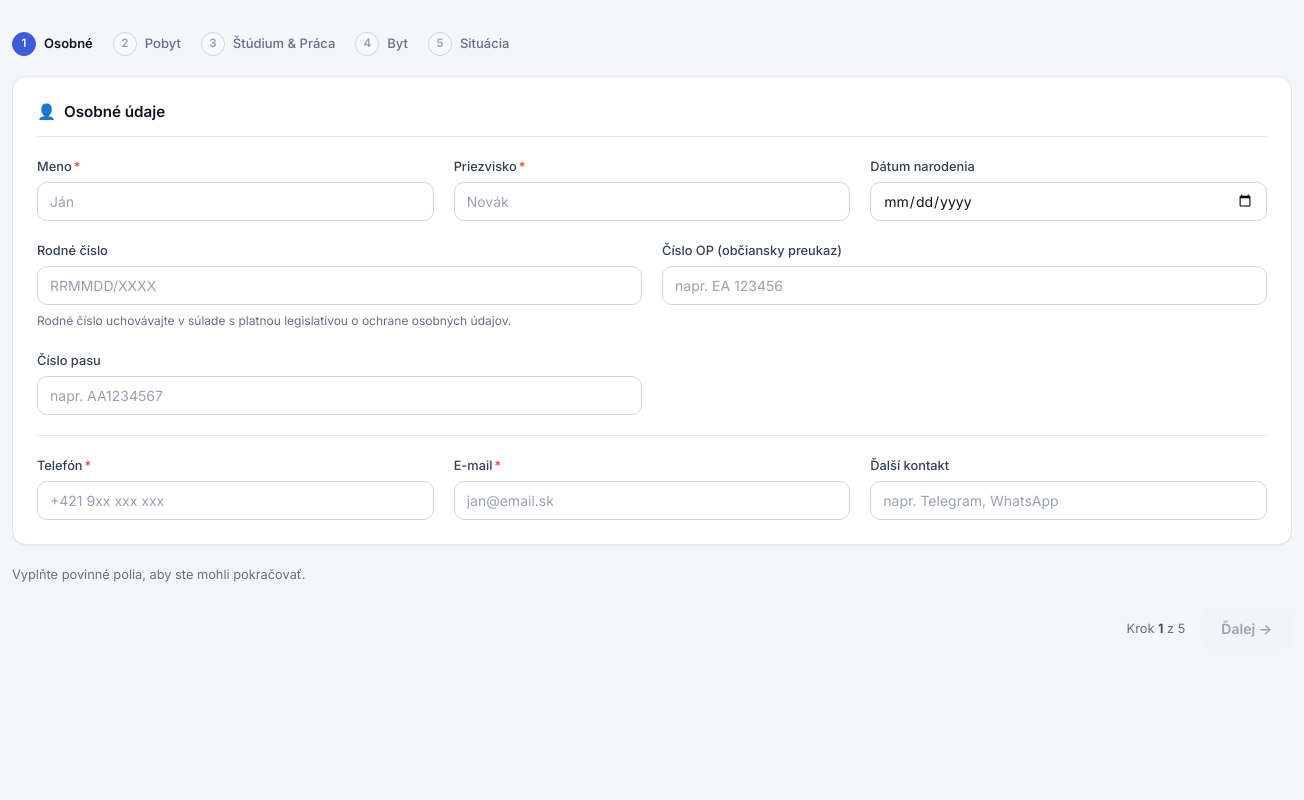
Test: TenantForm (Sprint 3.1–3.3) › enables Ďalej once step 1 validates
In the field labelled "Meno*": [235, 202] box [37, 182, 434, 221], type "Mária"
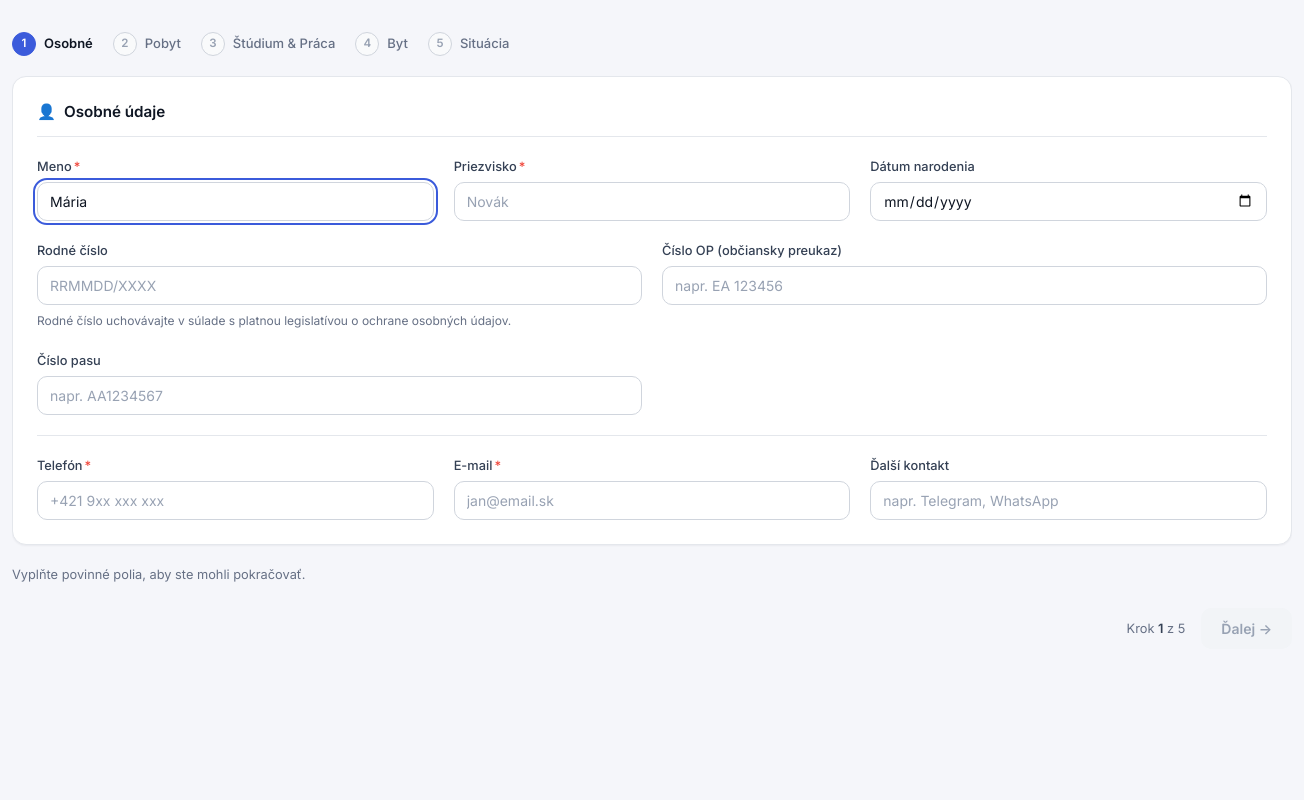
In the field labelled "Priezvisko*": [652, 202] box [454, 182, 850, 221], type "Kováčová"
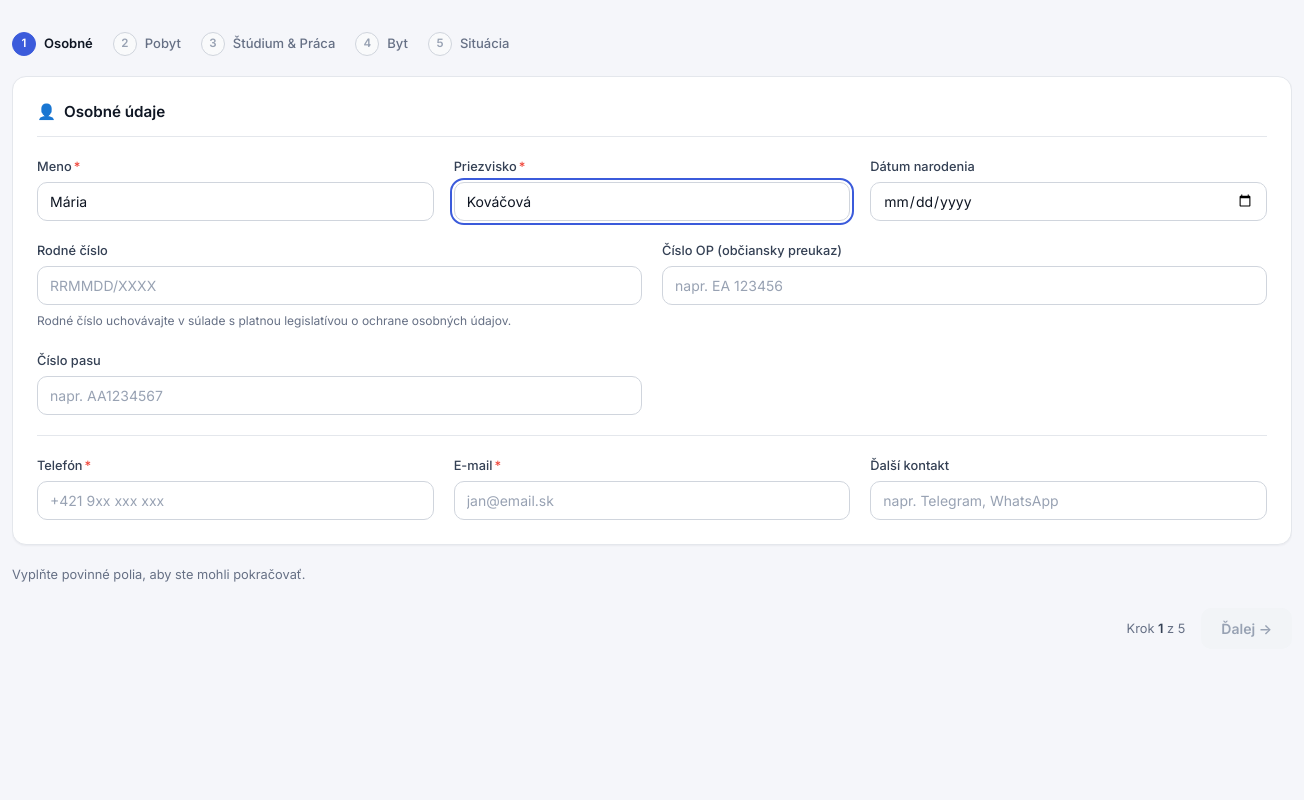
In the field labelled "Telefón*": [235, 500] box [37, 481, 434, 520], type "+421900111222"
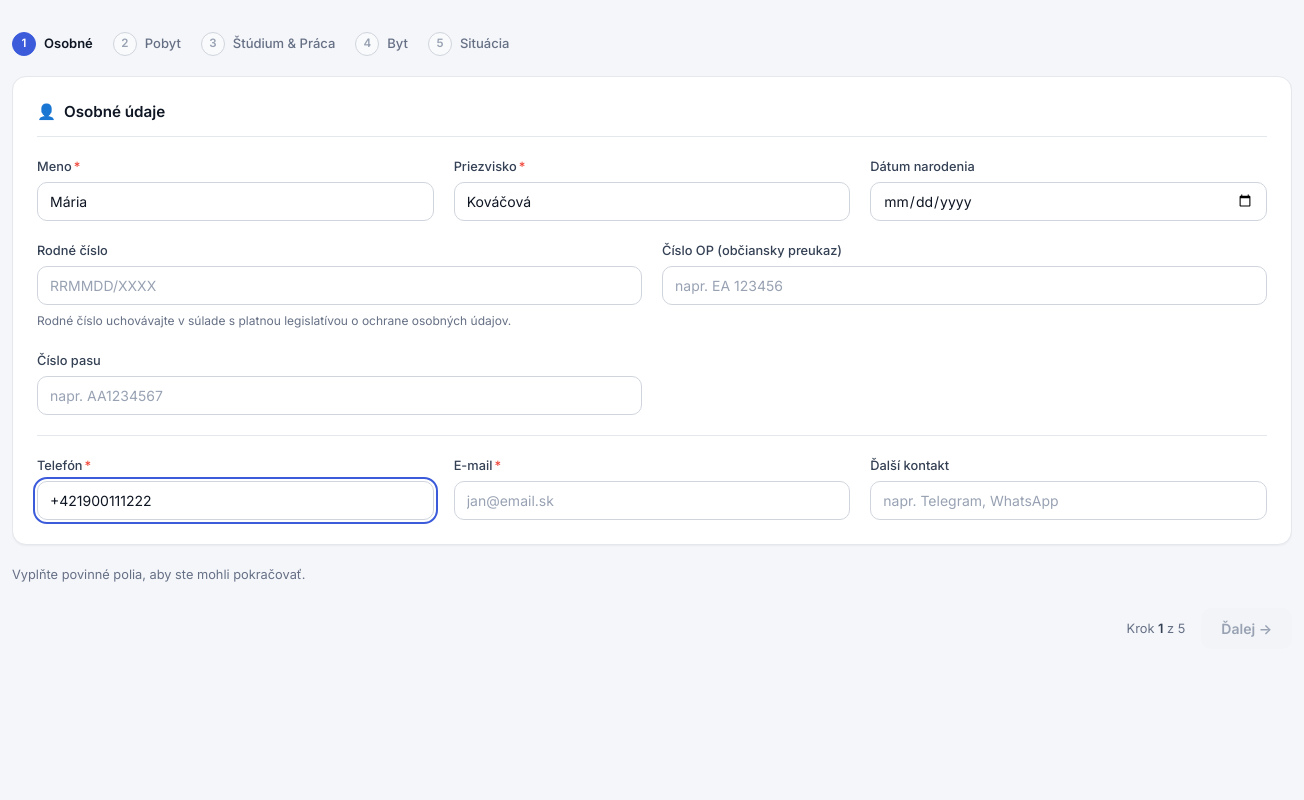
In the field labelled "E-mail*": [652, 500] box [454, 481, 850, 520], type "maria@example.com"
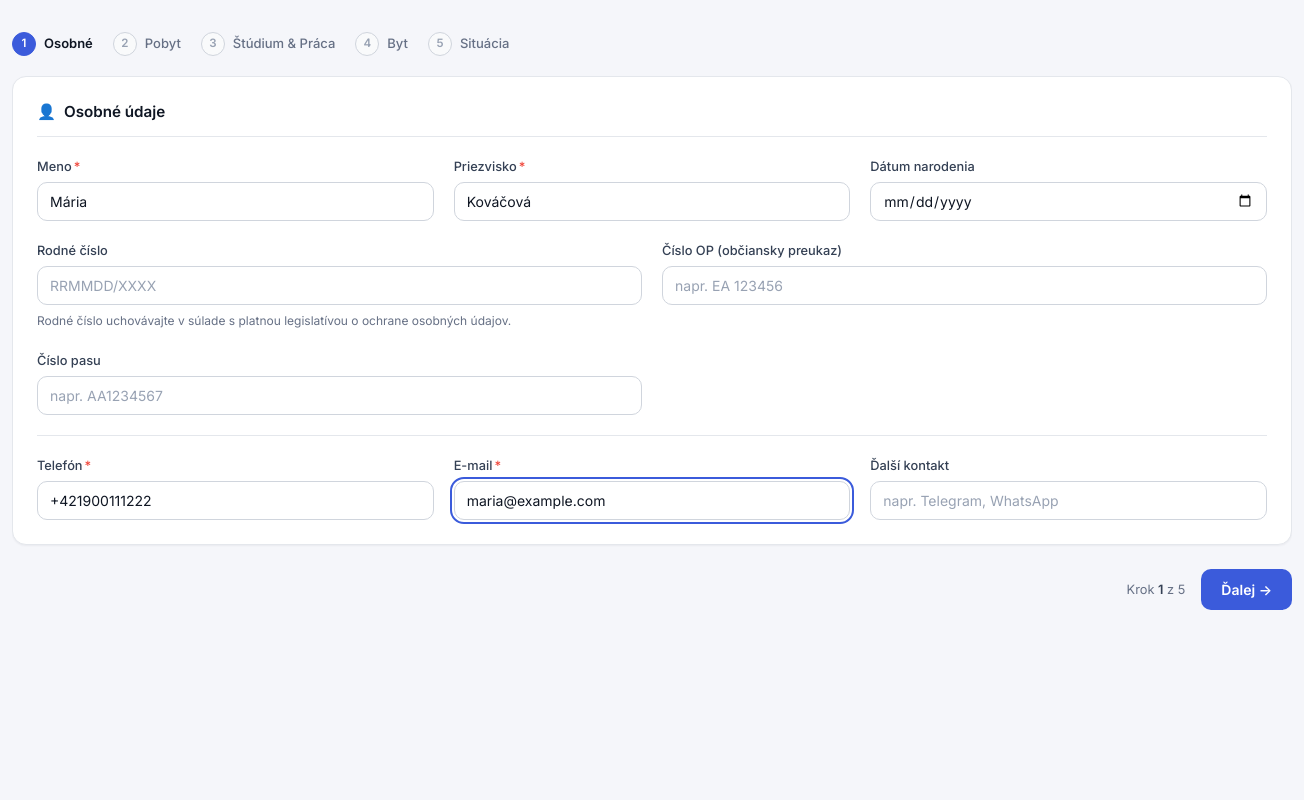
Now the button "Ďalej →" is enabled, box [1201, 569, 1292, 610]
